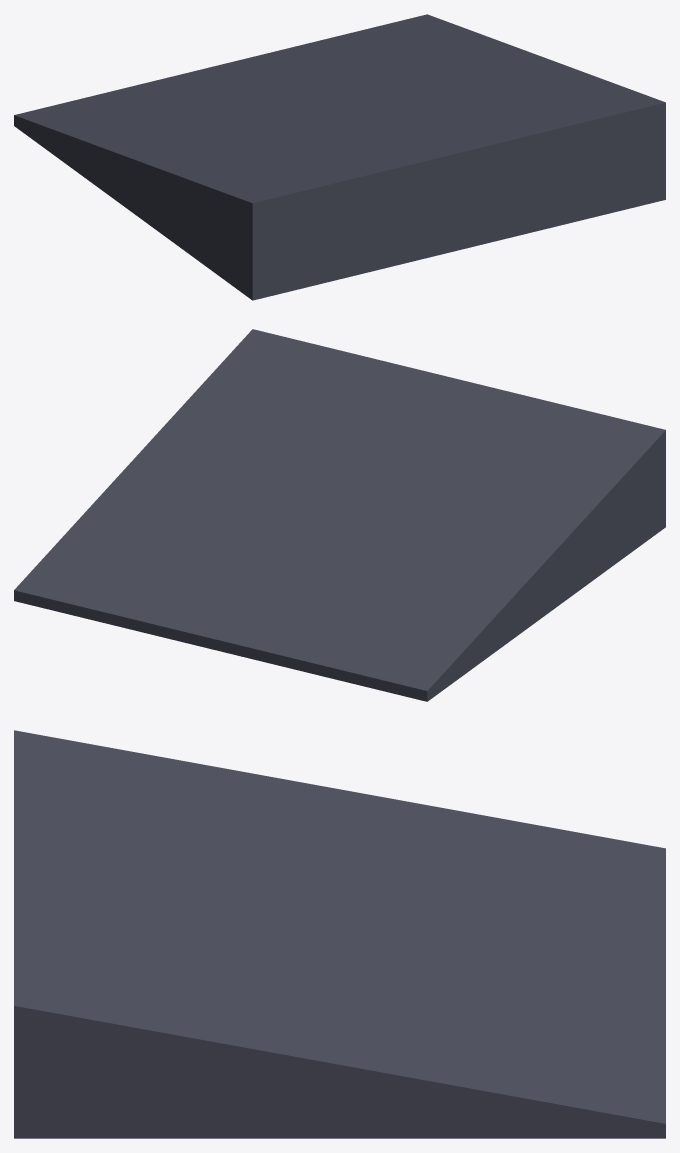
The model's file is road-slope.glb.
3 renders of one model, top to bottom at view 1: azimuth 30°, elevation 25°; view 2: azimuth 150°, elevation 25°; view 3: azimuth 270°, elevation 25°, orthographic. The views are drawn at different scales.
Visible parts, largest first — view 1: road-slope; view 2: road-slope; view 3: road-slope.
Part boxes in pixels (bbox=[...]): road-slope: bbox=[14, 14, 665, 300]; road-slope: bbox=[14, 329, 665, 701]; road-slope: bbox=[14, 730, 665, 1138].
Size of the model in its own units: 1 by 0.225 by 1.
1 material, 1 textured.
